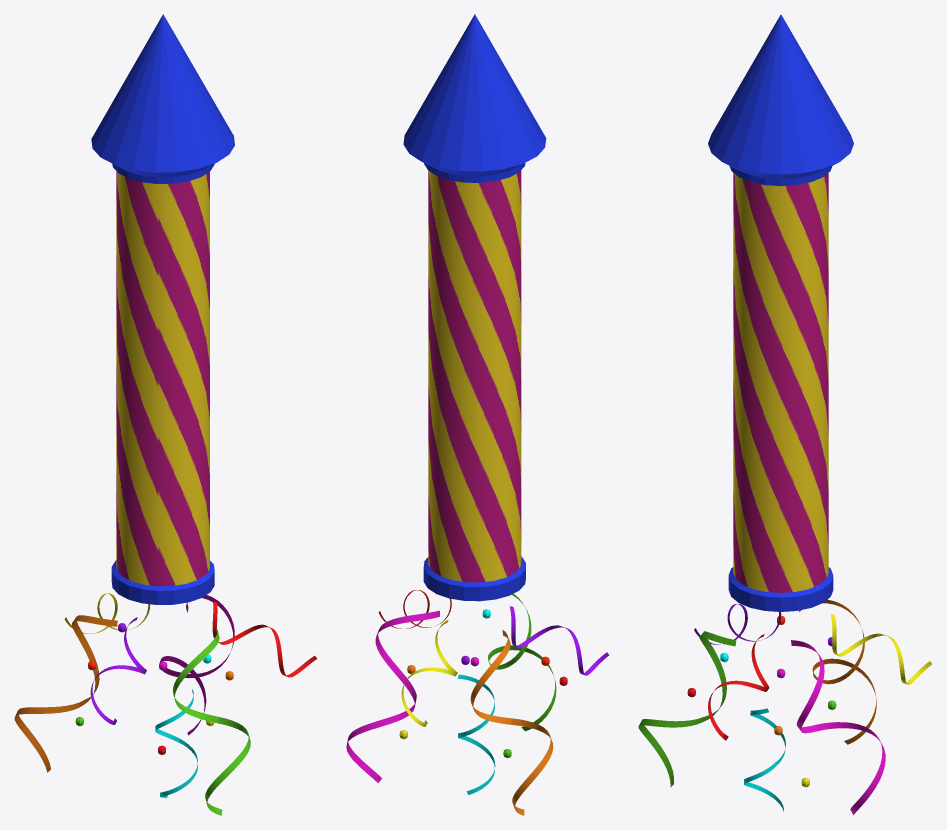
Rendered from Rocket 1.fbx.
The picture shows the model from 3 angles, left to right: view 1: azimuth 30°, elevation 25°; view 2: azimuth 150°, elevation 25°; view 3: azimuth 270°, elevation 25°; orthographic projection.
Visible parts, largest first — view 1: Missile, Coriandolo13, Coriandolo12, Coriandolo14, Coriandolo10, Coriandolo11, Coriandolo9; view 2: Missile, Coriandolo14, Coriandolo13, Coriandolo9, Coriandolo12, Coriandolo11, Coriandolo8; view 3: Missile, Coriandolo12, Coriandolo14, Coriandolo13, Coriandolo8, Coriandolo10, Coriandolo11.
Boxes of the visible parts, x1,y1,x2,y2 form: Missile: [91, 14, 234, 604]; Coriandolo13: [14, 615, 117, 772]; Coriandolo12: [173, 627, 250, 815]; Coriandolo14: [159, 595, 234, 735]; Coriandolo10: [212, 602, 317, 677]; Coriandolo11: [155, 689, 197, 798]; Coriandolo9: [90, 617, 146, 724]; Missile: [403, 14, 546, 601]; Coriandolo14: [346, 610, 439, 782]; Coriandolo13: [470, 630, 553, 815]; Coriandolo9: [509, 606, 609, 675]; Coriandolo12: [488, 593, 556, 731]; Coriandolo11: [457, 674, 495, 794]; Coriandolo8: [401, 620, 457, 726]; Missile: [708, 14, 853, 611]; Coriandolo12: [638, 631, 736, 787]; Coriandolo14: [791, 640, 885, 815]; Coriandolo13: [798, 599, 876, 744]; Coriandolo8: [830, 614, 931, 684]; Coriandolo10: [708, 634, 769, 740]; Coriandolo11: [744, 708, 785, 811].
Size of the model in its own units: 1.71 by 5.48 by 1.84.
1 material, 1 textured.
